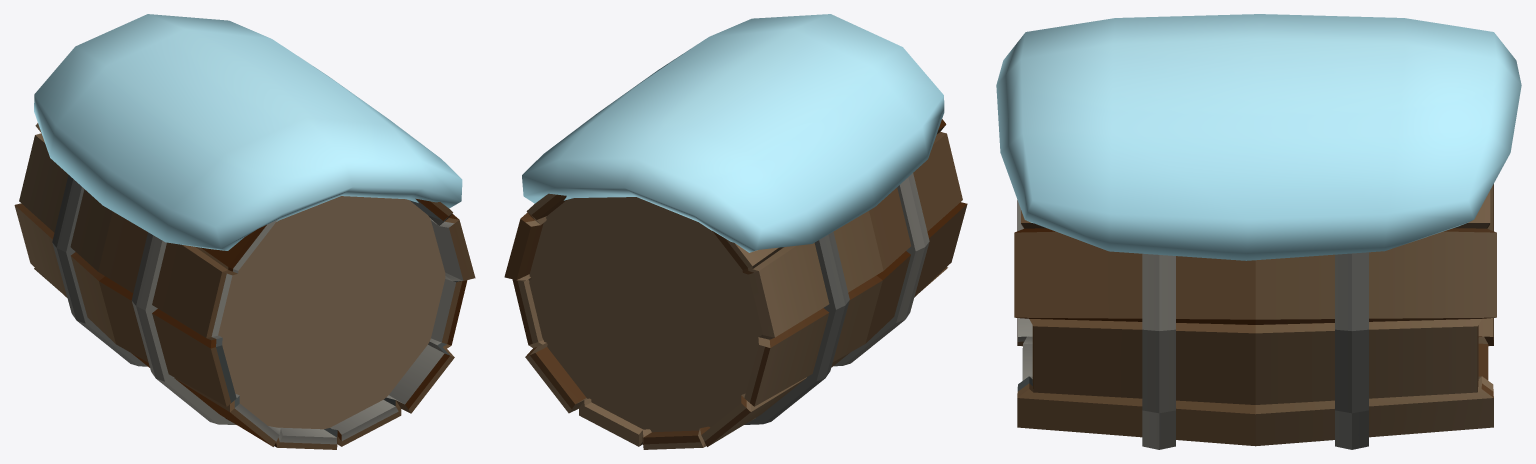
The model's file is Barrel_03_Winter_0_1.fbx.
The picture shows the model from 3 angles, left to right: view 1: azimuth 30°, elevation 25°; view 2: azimuth 150°, elevation 25°; view 3: azimuth 270°, elevation 25°; orthographic projection. The views are drawn at different scales.
Visible parts, largest first — view 1: Cylinder.003; view 2: Cylinder.003; view 3: Cylinder.003.
Boxes of the visible parts, x1,y1,x2,y2 form: Cylinder.003: (14, 14, 475, 449); Cylinder.003: (504, 14, 967, 449); Cylinder.003: (996, 14, 1521, 449).
Size of the model in its own units: 104 by 109 by 132.
